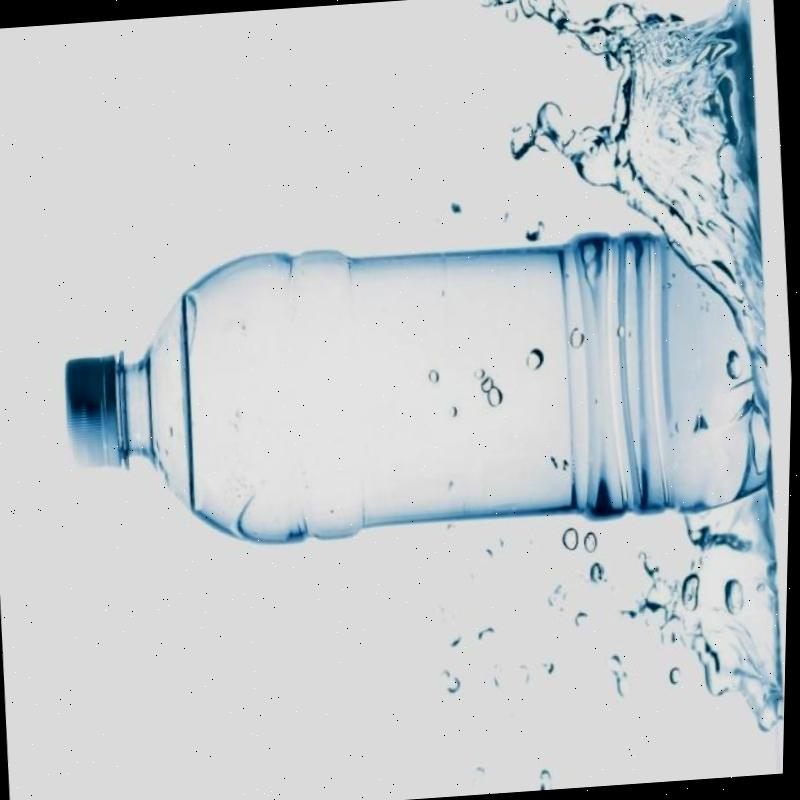botella: (57, 212, 782, 554)
